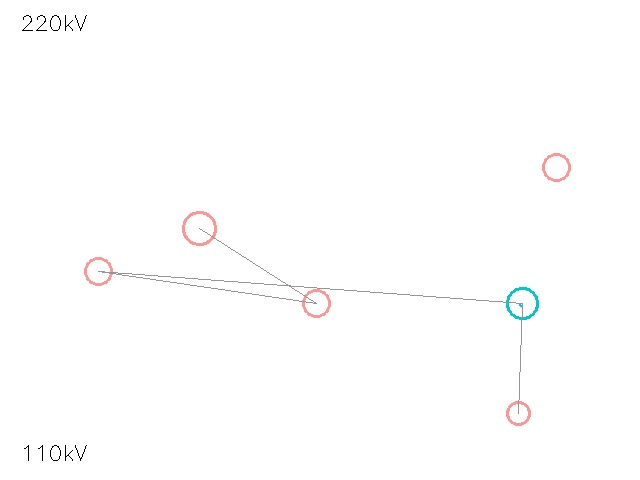feeder_terminal: (289, 276, 343, 330)
fuse: (166, 195, 232, 261), (495, 390, 541, 436)
generator: (507, 288, 537, 318)
surge_arrester: (529, 140, 583, 194)
voltage_transformer: (71, 244, 125, 298)
